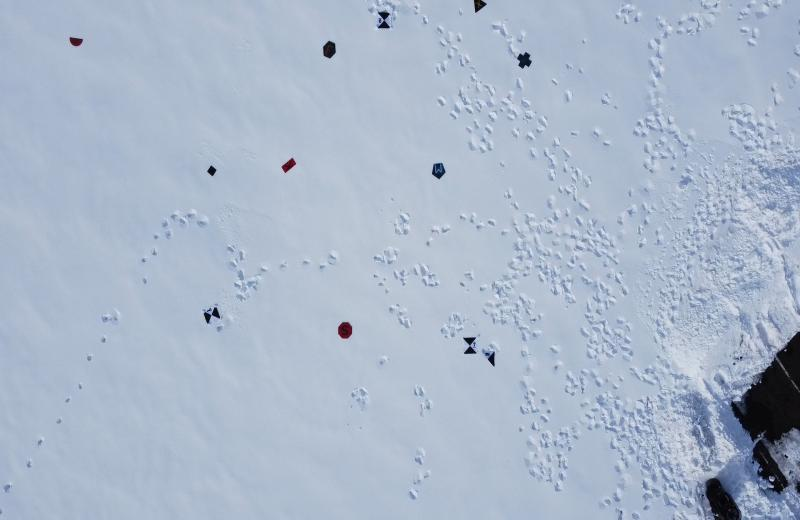Cross: (516, 52, 533, 69)
Hexagon: (320, 41, 336, 59)
Octagon: (337, 322, 353, 340)
Pentagon: (430, 162, 446, 180)
Rectangle: (281, 157, 297, 173)
Semi Circle: (68, 37, 84, 47)
Square: (207, 164, 217, 176)
Triangle: (473, 0, 487, 13)
